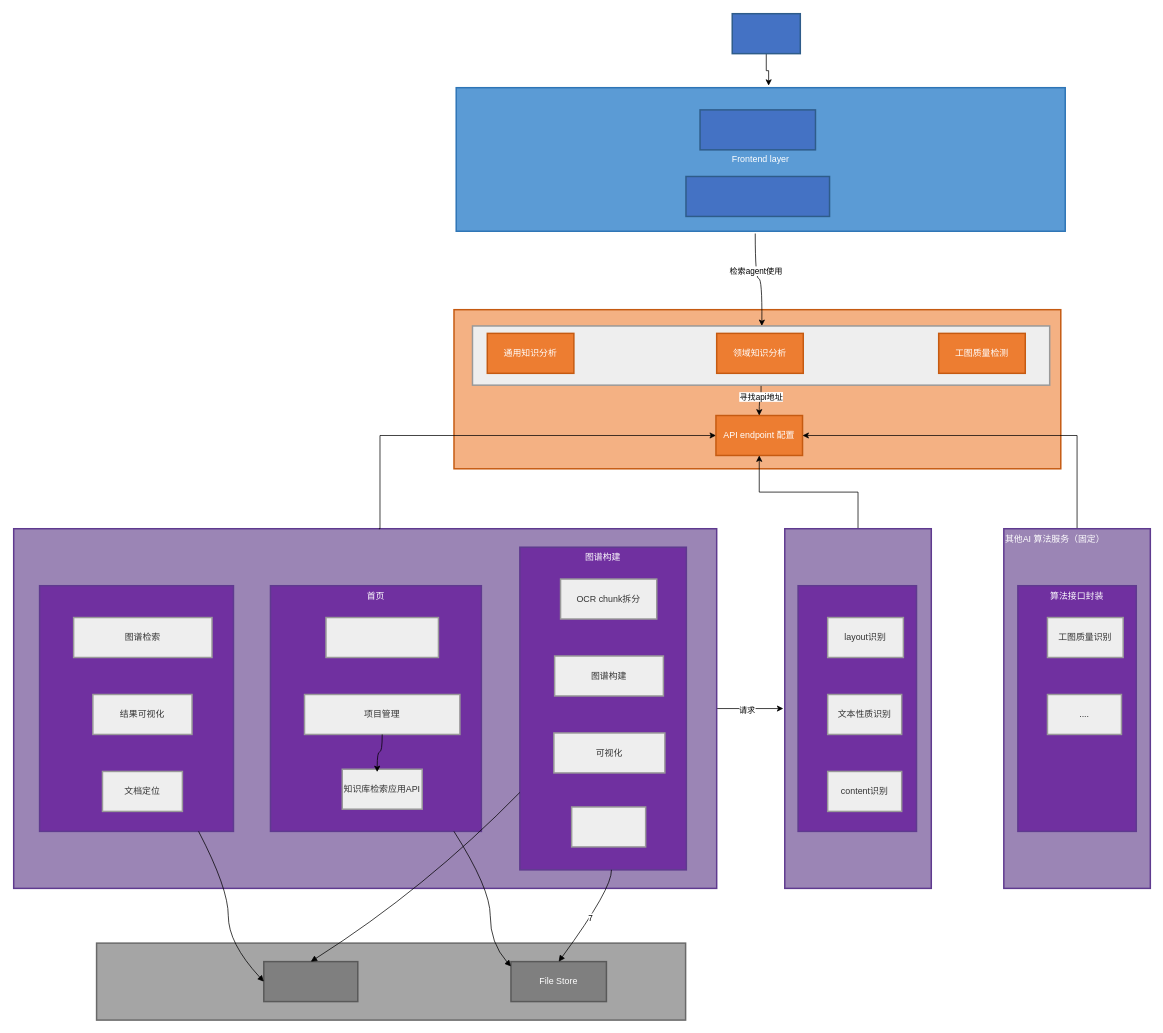
Some shapes in this 1163 by 1033 pixel diagram are drawn without their labels. The shapes that lost their labels are listed below. From the top down, each one's box as (x1, y1, x2, y2) in pixels, then its label:
(731, 13, 801, 54): 用户
(699, 109, 816, 150): Vue 前端
(685, 175, 830, 217): @xx 唤醒处理agent
(453, 309, 1061, 469): agent路由层
(325, 616, 439, 658): 知识库管理（包含多个pdf）
(38, 585, 234, 832): 命中测试
(13, 528, 717, 889): 知识库模块
(797, 585, 917, 832): 识别模块
(784, 528, 932, 889): 通用MinerU Api服务
(571, 806, 646, 847): 语义三元组检视
(263, 961, 358, 1002): Graph DB(Neo4j)
(95, 942, 686, 1020): 数据存储层
